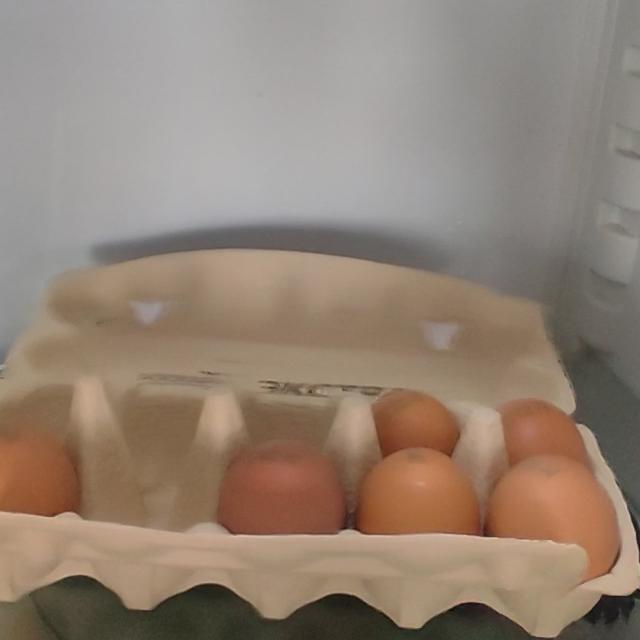egg: (0, 229, 640, 640)
